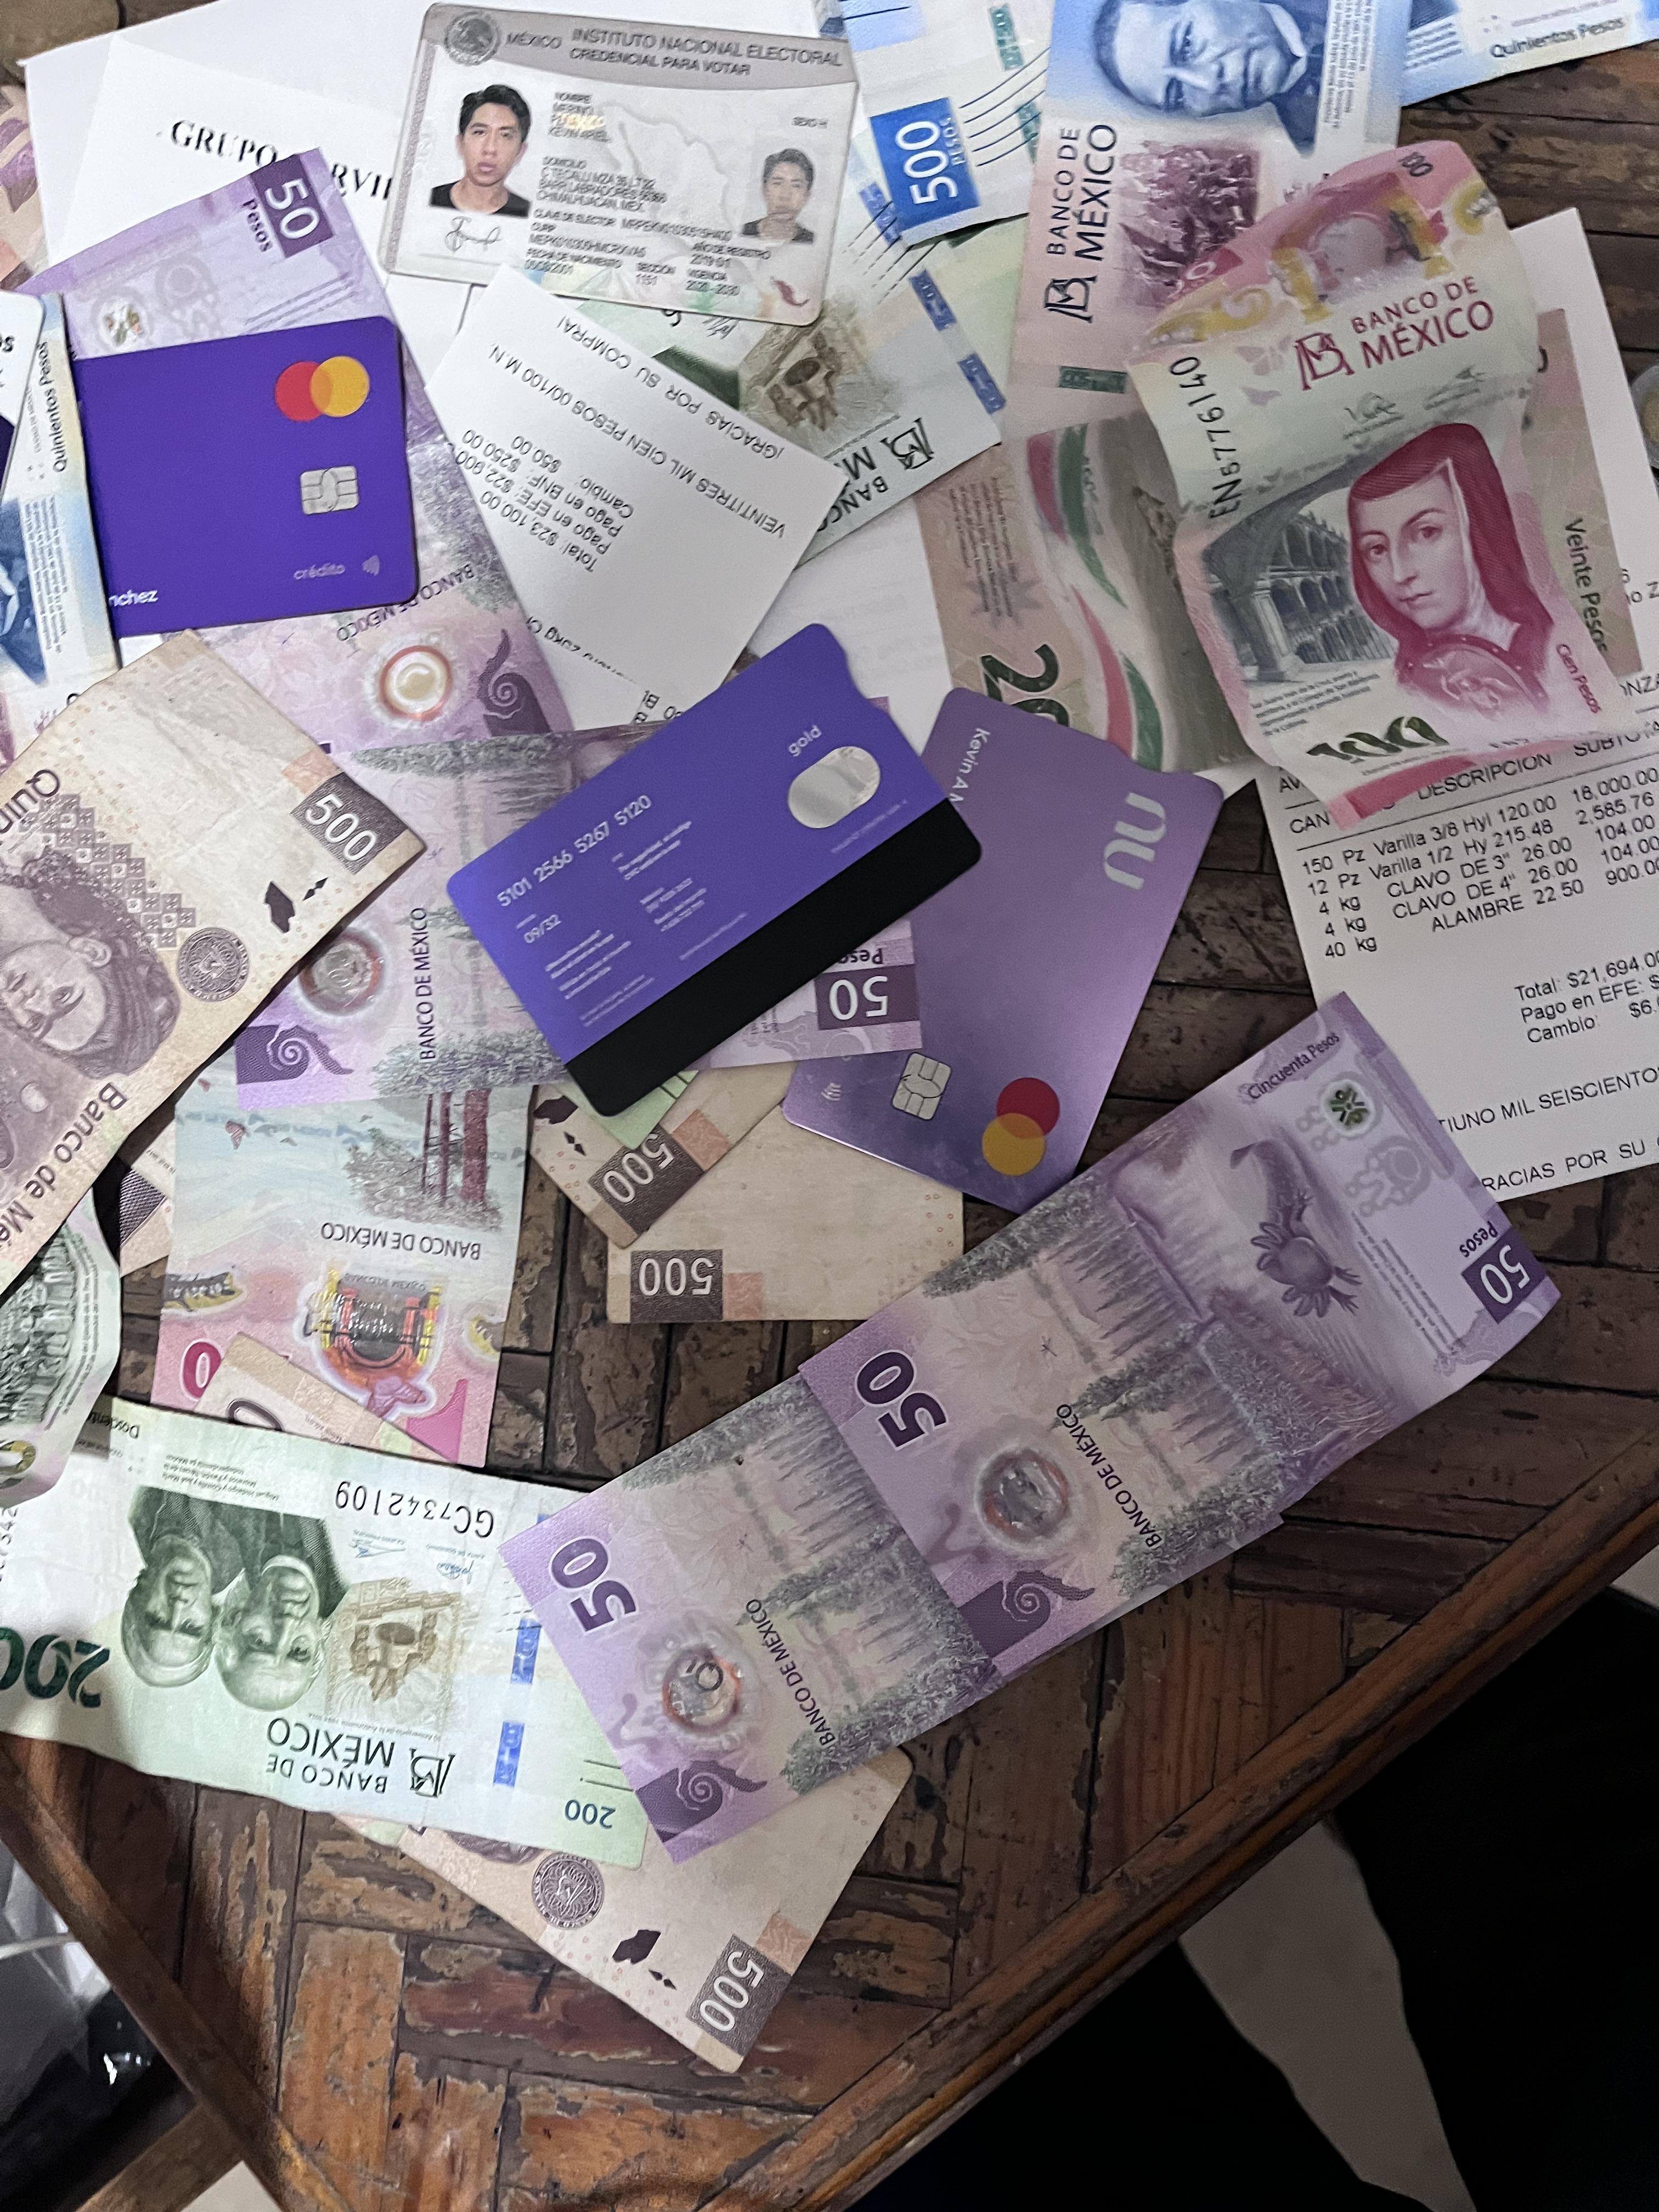100: (1133, 136, 1640, 859), (145, 974, 551, 1477)
20: (885, 268, 1649, 820)
200: (0, 1378, 796, 1895), (552, 68, 1060, 561)
50: (798, 993, 1560, 1681), (505, 1310, 1297, 1879), (207, 709, 945, 1129)
500: (16, 150, 603, 775), (0, 622, 429, 1278), (282, 1672, 911, 2080), (584, 1038, 993, 1339)
500 nuevo: (990, 0, 1417, 460), (854, 0, 1659, 242)
